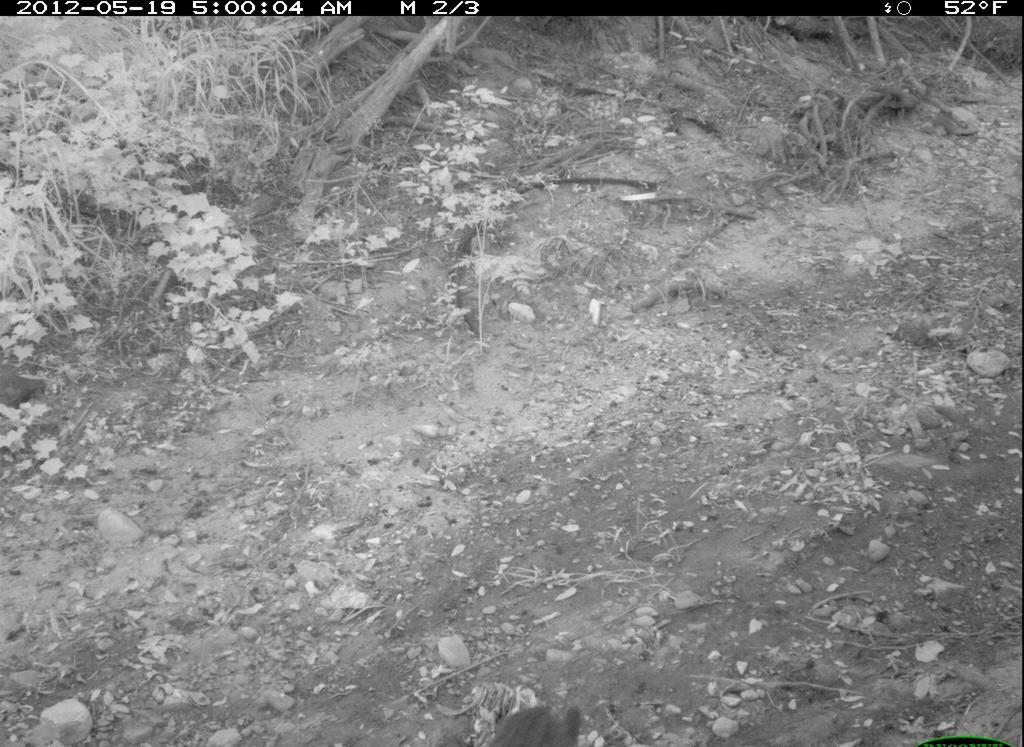cat: (474, 690, 589, 747)
